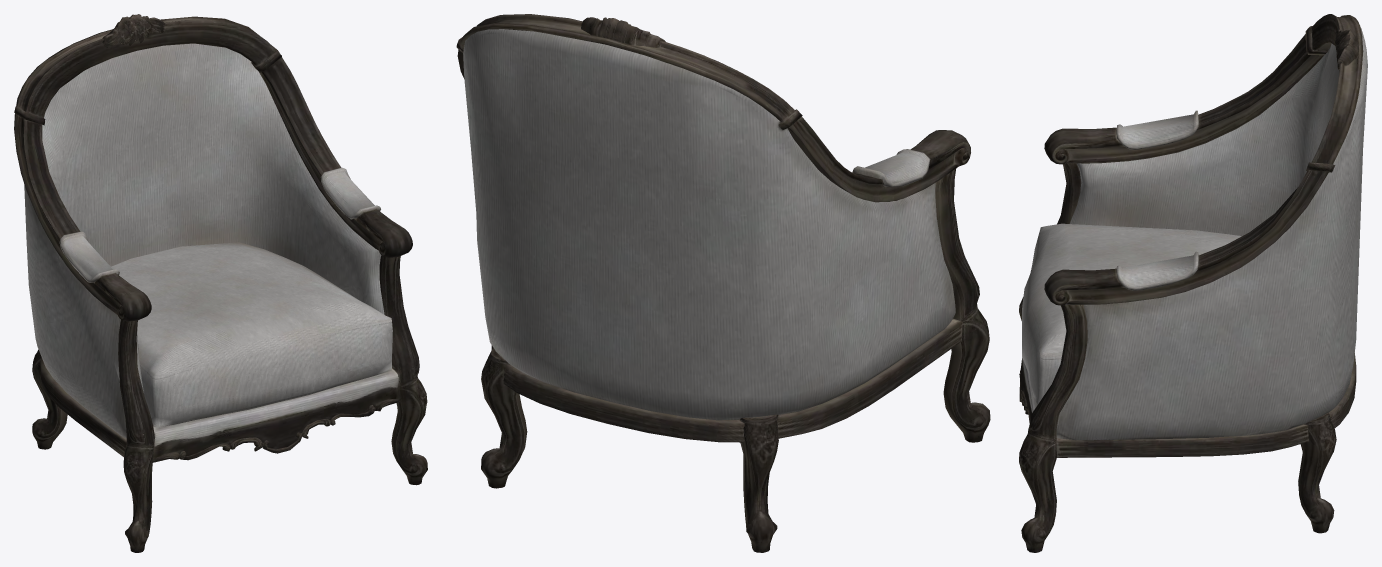
File: ArmChair_01.glb
The picture shows the model from 3 angles, left to right: view 1: azimuth 30°, elevation 25°; view 2: azimuth 150°, elevation 25°; view 3: azimuth 270°, elevation 25°; orthographic projection. The views are drawn at different scales.
Parts seen in each view (by area): view 1: ArmChair_01; view 2: ArmChair_01; view 3: ArmChair_01.
Boxes of the visible parts, x1,y1,x2,y2 form: ArmChair_01: (14,14,427,552); ArmChair_01: (456,14,990,552); ArmChair_01: (1019,14,1367,552).
Bounding box in the file's own units: 0.8493 × 1.07 × 0.7656.
Materials: 1 (1 with a texture image).
